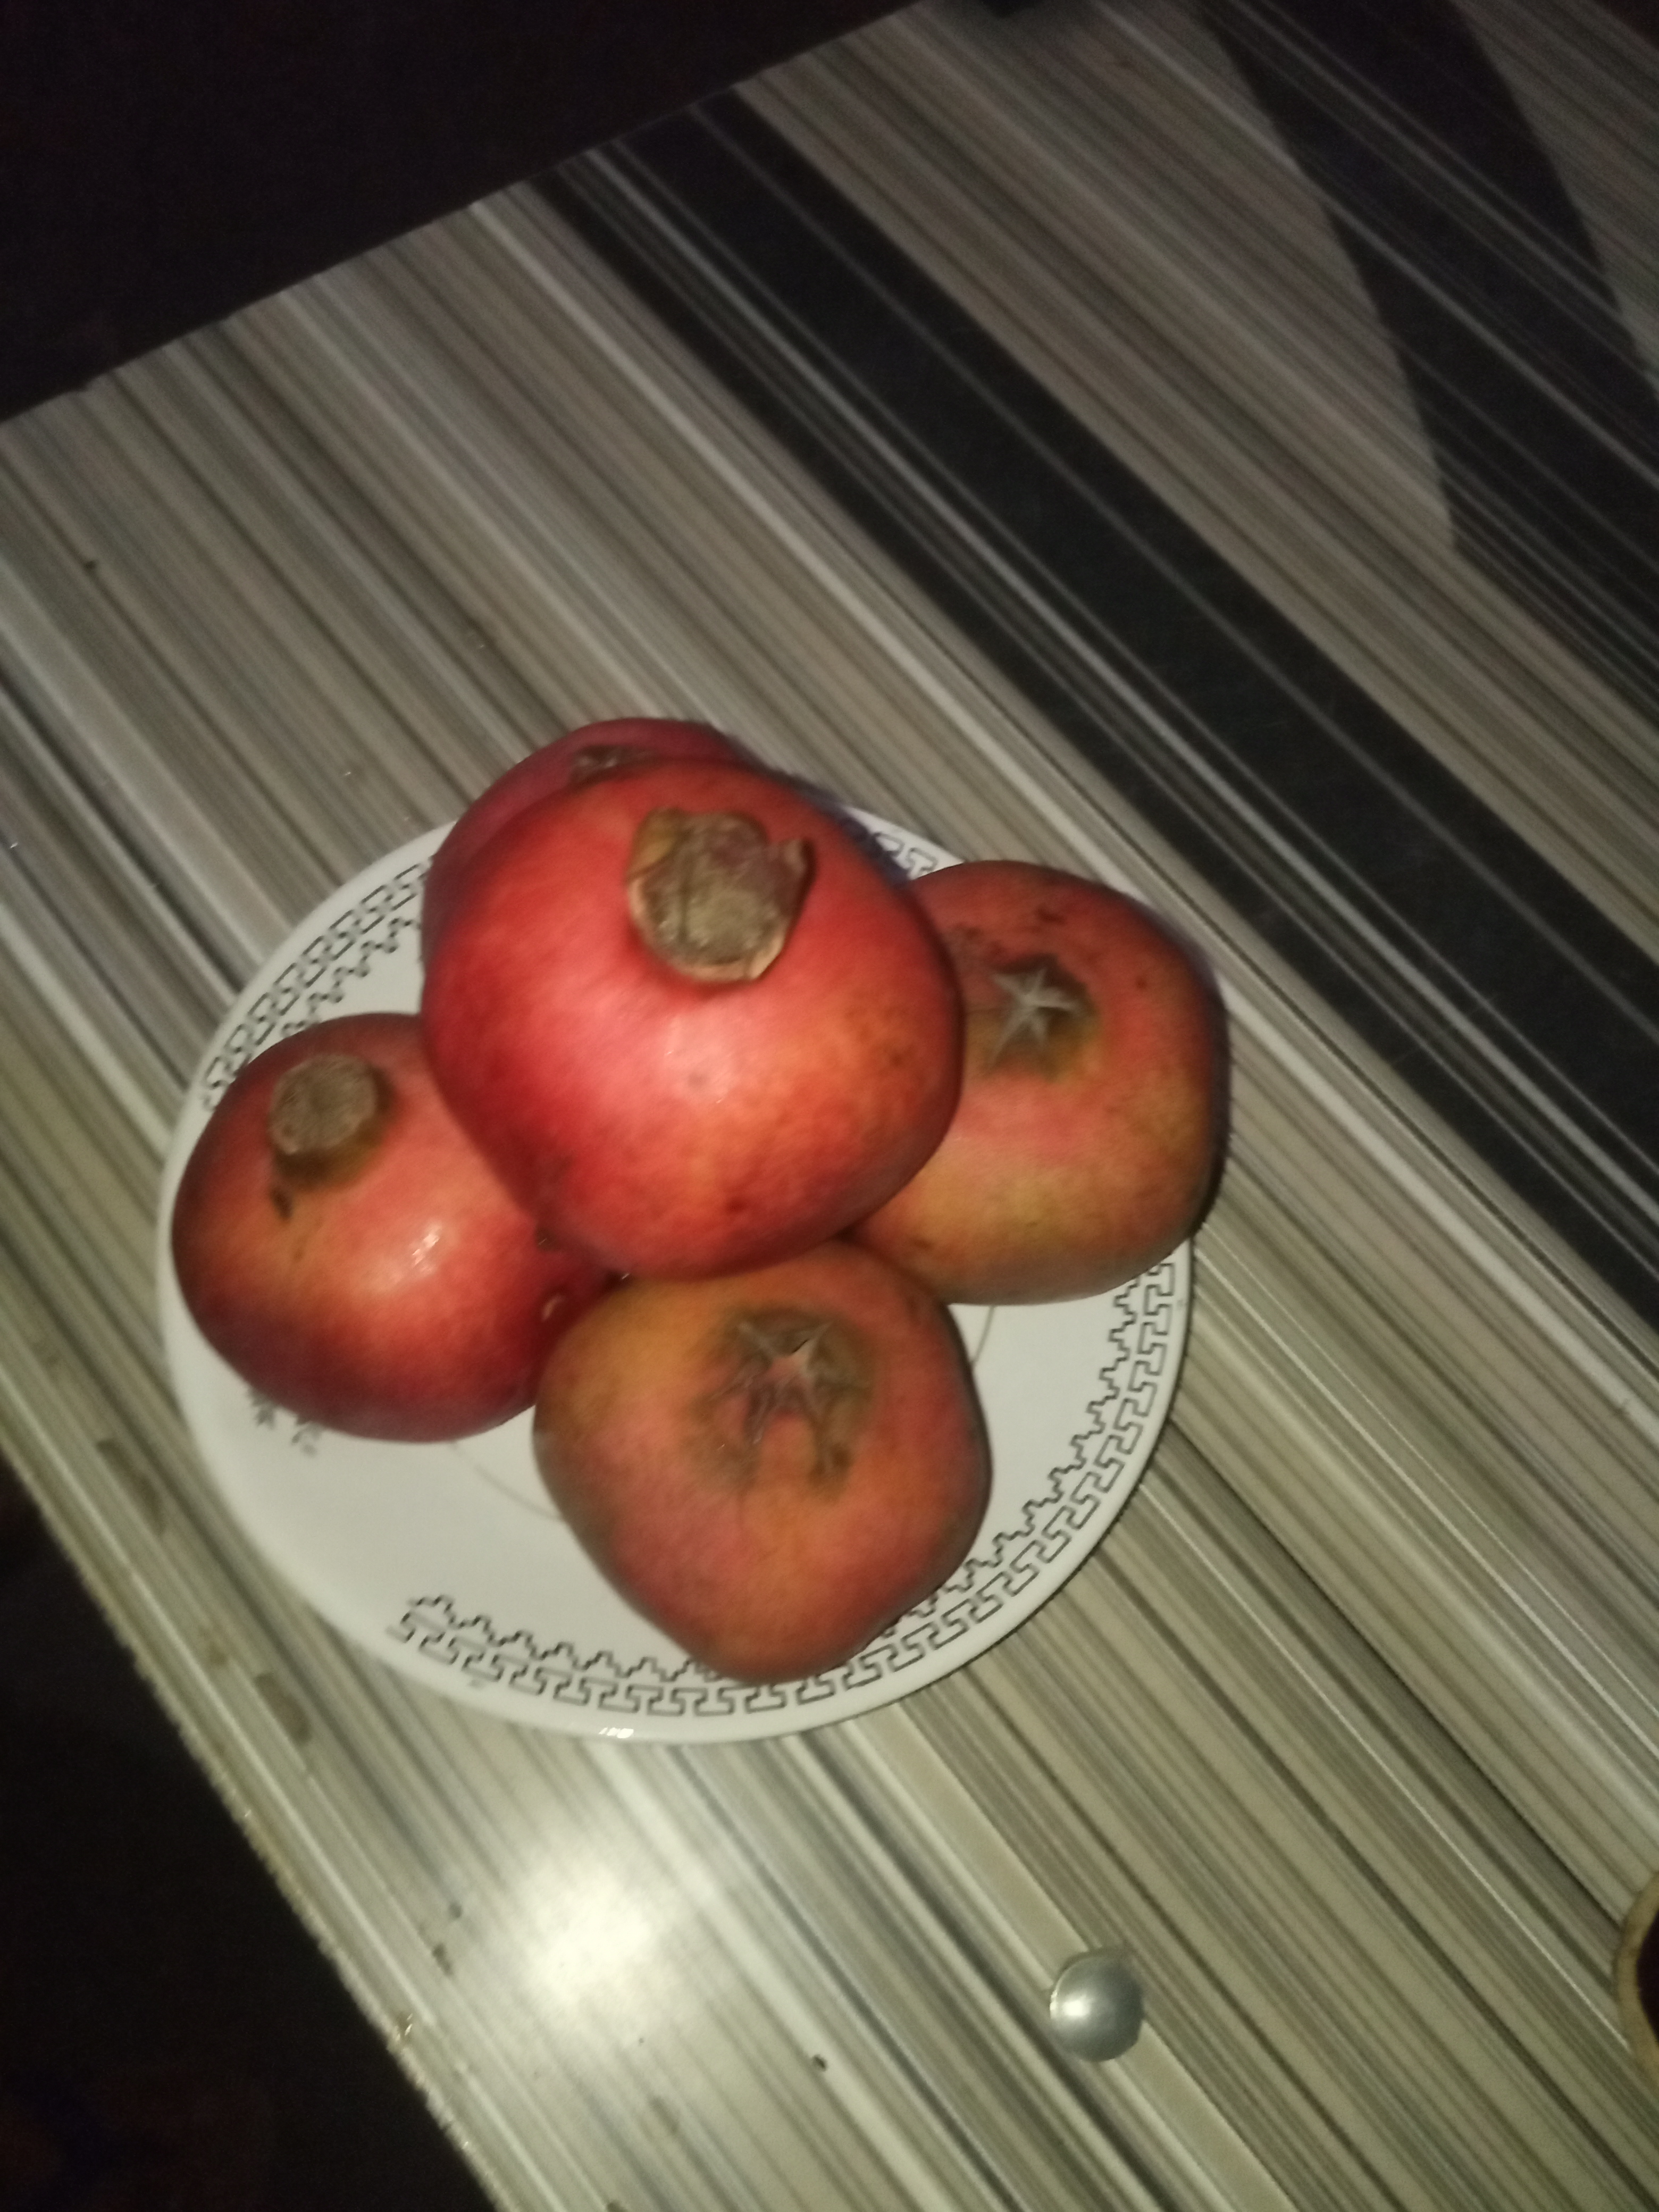food: (159, 705, 1241, 1693)
